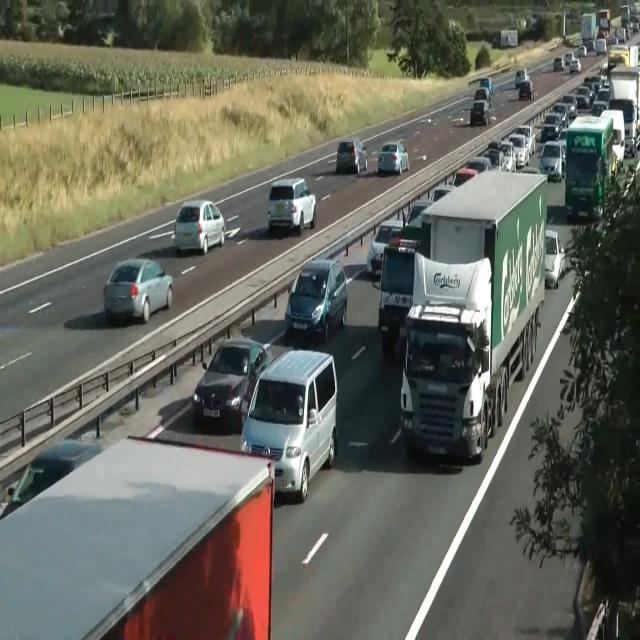bus: (0, 436, 104, 520), (192, 336, 272, 431), (103, 257, 173, 323), (173, 199, 225, 255), (544, 227, 565, 288), (377, 141, 409, 175), (507, 133, 531, 168), (514, 124, 536, 154), (540, 112, 562, 142), (428, 184, 456, 204), (470, 100, 490, 126), (574, 84, 594, 110), (465, 156, 491, 173), (474, 87, 492, 109), (561, 94, 577, 118), (518, 79, 534, 100), (515, 68, 529, 87), (480, 77, 494, 95), (569, 57, 581, 74), (553, 57, 564, 71), (577, 44, 587, 57)
car: (399, 251, 493, 462)
jeep: (240, 347, 338, 501), (284, 257, 348, 342), (377, 240, 417, 340), (267, 177, 317, 235), (366, 218, 404, 276), (335, 137, 367, 174), (539, 140, 565, 182)
minibus: (0, 434, 276, 639), (399, 168, 547, 462), (564, 108, 625, 222), (608, 66, 640, 156), (580, 9, 610, 52), (492, 28, 518, 49)
